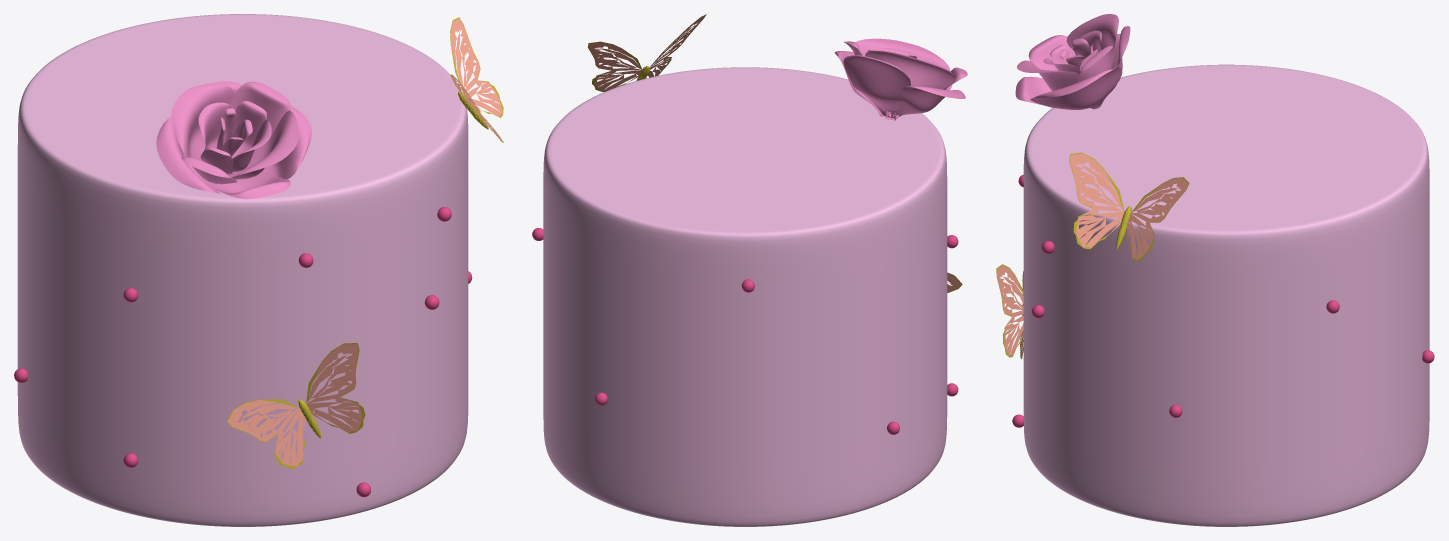
Rendered from Butterfly_1.glb.
3 views of the same model, side by side, from view 1: azimuth 30°, elevation 25°; view 2: azimuth 150°, elevation 25°; view 3: azimuth 270°, elevation 25° (orthographic). The views are drawn at different scales.
Visible parts, largest first — view 1: Circle, Plane.006, butterfly.001, butterfly.002; view 2: Circle, Plane.006, butterfly.002; view 3: Circle, Plane.006, butterfly.002, butterfly.001.
Part boxes in pixels (box(x1,y1,x2,y2)): Circle: box(17, 14, 468, 526); Plane.006: box(156, 81, 311, 199); butterfly.001: box(226, 343, 365, 469); butterfly.002: box(450, 17, 503, 142); Circle: box(543, 67, 947, 526); Plane.006: box(834, 38, 967, 120); butterfly.002: box(587, 14, 706, 91); Circle: box(1023, 64, 1429, 526); Plane.006: box(1015, 14, 1130, 109); butterfly.002: box(1069, 152, 1189, 260); butterfly.001: box(996, 264, 1023, 358).
Size of the model in its own units: 0.158 by 0.153 by 0.1608.
